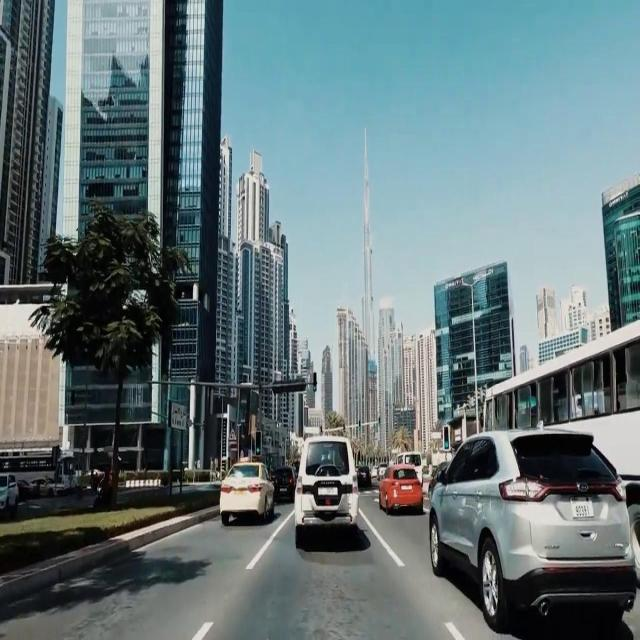License-plate: (570, 498, 596, 520)
